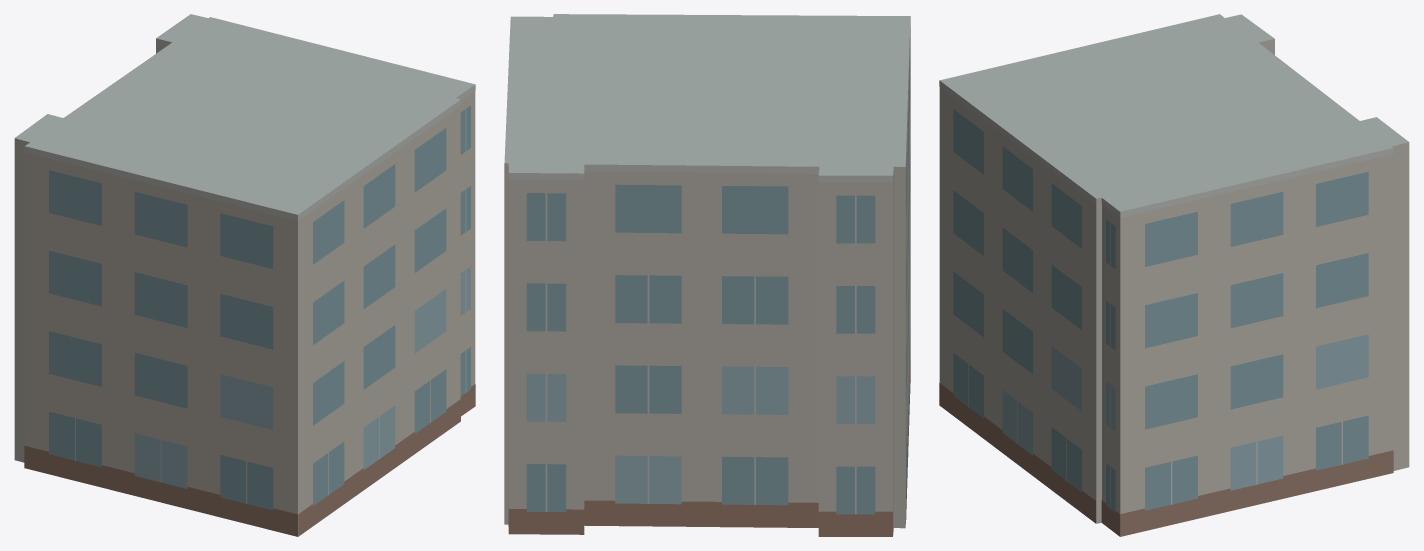
File: survey-upis-32989506.glb
3 views of the same model, side by side, from view 1: azimuth 30°, elevation 25°; view 2: azimuth 150°, elevation 25°; view 3: azimuth 270°, elevation 25° (orthographic). The views are drawn at different scales.
Parts seen in each view (by area): view 1: survey-upis-32989506.tmp; view 2: survey-upis-32989506.tmp; view 3: survey-upis-32989506.tmp.
Part boxes in pixels (x1,y1,x2,y2): survey-upis-32989506.tmp: (14, 14, 475, 536); survey-upis-32989506.tmp: (504, 14, 910, 536); survey-upis-32989506.tmp: (939, 14, 1409, 536).
Bounding box in the file's own units: 16.74 × 12.82 × 16.8.
